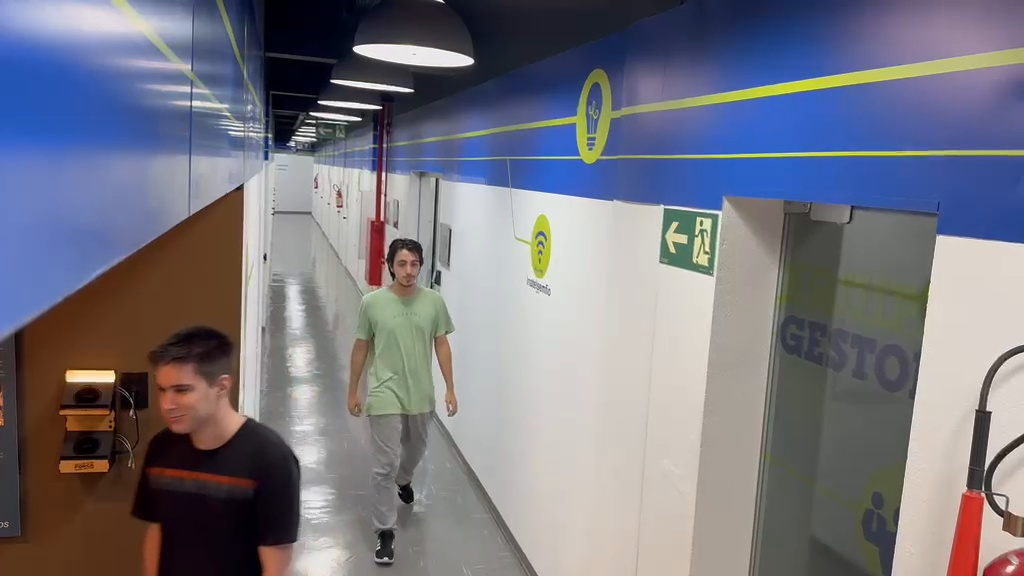person: (130, 325, 301, 573), (346, 237, 460, 553)
